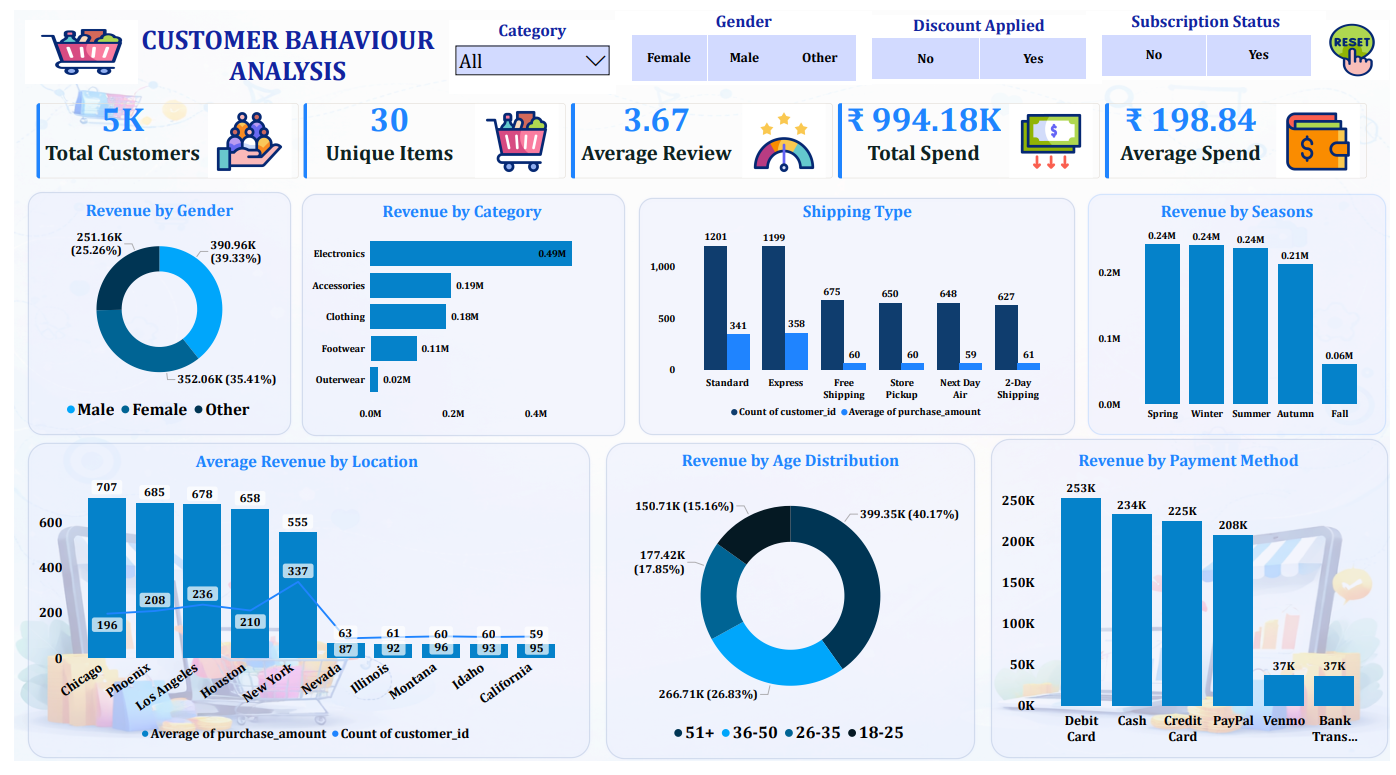

Layout of this report page (visuals, bound fields, positions):
{"tool":"powerbi","page":{"name":"Customer Analysis Revenue","canvas":[2200,1200],"ordinal":0},"visuals":[{"type":"shape","box":[942.8,689,597.5,511],"z":0},{"type":"shape","box":[18.3,287.4,428,395.4],"z":1000},{"type":"group","id":"g1","title":"Group 2","box":[456.5,291.4,523.8,393.3],"z":2000},{"type":"cardVisual","fields":{"Data":["customer_behaviour_analysis.Total Customers","customer_behaviour_analysis.Unique Items","customer_behaviour_analysis.Average Review","customer_behaviour_analysis.Total Spend","customer_behaviour_analysis.Average Spend"]},"box":[18.5,131.9,2161.3,154.5],"z":3000},{"type":"donutChart","title":"Revenue by Gender","fields":{"Category":["customer_behaviour_analysis.gender"],"Y":["Sum(customer_behaviour_analysis.purchase_amount)"]},"box":[34.6,303.7,395.4,360.7],"z":4000},{"type":"shape","box":[456.5,291.4,523.9,393.3],"z":5000,"group":"g1"},{"type":"shape","box":[995.1,296.7,704.6,385.6],"z":5000,"group":"g2"},{"type":"barChart","title":"Revenue by Category","fields":{"Category":["customer_behaviour_analysis.category"],"Y":["Sum(customer_behaviour_analysis.purchase_amount)"]},"box":[470.8,305.7,491.2,358.7],"z":5000},{"type":"shape","box":[1714.2,290.5,484.2,391.5],"z":6000},{"type":"group","id":"g2","title":"Group 2","box":[995.1,296.7,704.6,385.3],"z":7000},{"type":"clusteredColumnChart","title":"Shipping Type","fields":{"Category":["customer_behaviour_analysis.shipping_type"],"Y":["Count(customer_behaviour_analysis.customer_id)","Avg(customer_behaviour_analysis.purchase_amount)"]},"box":[1011.6,304.9,673.7,358.5],"z":8000},{"type":"clusteredColumnChart","title":"Revenue by Seasons","fields":{"Category":["customer_behaviour_analysis.season"],"Y":["Sum(customer_behaviour_analysis.purchase_amount)"]},"box":[1728.6,304.9,453.3,358.5],"z":9000},{"type":"donutChart","title":"Revenue by Age Distribution ","fields":{"Y":["Sum(customer_behaviour_analysis.purchase_amount)"],"Category":["customer_behaviour_analysis.age (groups)"]},"box":[961.3,703.4,560.4,478],"z":10000},{"type":"shape","box":[1557.6,682,642.8,517.1],"z":11000},{"type":"clusteredColumnChart","title":"Revenue by Payment Method","fields":{"Category":["customer_behaviour_analysis.payment_method"],"Y":["Sum(customer_behaviour_analysis.purchase_amount)"]},"box":[1574.1,702.6,607.8,478],"z":12000},{"type":"shape","box":[18.5,688.1,906.5,511],"z":13000},{"type":"lineClusteredColumnComboChart","title":"Average Revenue by Location","fields":{"Category":["customer_behaviour_analysis.location"],"Y":["Avg(customer_behaviour_analysis.purchase_amount)"],"Y2":["CountNonNull(customer_behaviour_analysis.customer_id)"]},"box":[35,704.6,867.4,473.9],"z":14000},{"type":"textbox","box":[197.8,16.5,480.1,115.4],"z":15000},{"type":"actionButton","box":[18.5,16.5,179.2,101],"z":16000},{"type":"slicer","title":"Category","fields":{"Values":["customer_behaviour_analysis.category"]},"box":[696.4,16.5,265.8,117.4],"z":17000},{"type":"slicer","title":"Gender","fields":{"Values":["customer_behaviour_analysis.gender"]},"box":[962.2,2.1,410,117.4],"z":18000},{"type":"slicer","title":"Discount Applied","fields":{"Values":["customer_behaviour_analysis.discount_applied"]},"box":[1347.4,8.2,391.5,109.2],"z":19000},{"type":"slicer","title":"Subscription Status","fields":{"Values":["customer_behaviour_analysis.subscription_status"]},"box":[1714.2,2.1,383.2,109.2],"z":20000},{"type":"actionButton","box":[2080.9,16.5,117.4,94.8],"z":21000}]}

Visuals, with their boxes in screenshot pixels (x1, y1, x2, y2), scaled from the page's 2200x1200 canvas onto the 1396x775 screenshot:
shape: x1=598 y1=445 x2=977 y2=774
shape: x1=12 y1=186 x2=283 y2=441
"Group 2" group: x1=290 y1=188 x2=622 y2=442
cardVisual - customer_behaviour_analysis.Total Customers x customer_behaviour_analysis.Unique Items: x1=12 y1=85 x2=1383 y2=185
"Revenue by Gender" donutChart: x1=22 y1=196 x2=273 y2=429
shape: x1=290 y1=188 x2=622 y2=442
shape: x1=631 y1=192 x2=1079 y2=441
"Revenue by Category" barChart: x1=299 y1=197 x2=610 y2=429
shape: x1=1088 y1=188 x2=1395 y2=440
"Group 2" group: x1=631 y1=192 x2=1079 y2=440
"Shipping Type" clusteredColumnChart: x1=642 y1=197 x2=1069 y2=428
"Revenue by Seasons" clusteredColumnChart: x1=1097 y1=197 x2=1385 y2=428
"Revenue by Age Distribution " donutChart: x1=610 y1=454 x2=966 y2=763
shape: x1=988 y1=440 x2=1395 y2=774
"Revenue by Payment Method" clusteredColumnChart: x1=999 y1=454 x2=1385 y2=762
shape: x1=12 y1=444 x2=587 y2=774
"Average Revenue by Location" lineClusteredColumnComboChart: x1=22 y1=455 x2=573 y2=761
textbox: x1=126 y1=11 x2=430 y2=85
actionButton: x1=12 y1=11 x2=125 y2=76
"Category" slicer: x1=442 y1=11 x2=611 y2=86
"Gender" slicer: x1=611 y1=1 x2=871 y2=77
"Discount Applied" slicer: x1=855 y1=5 x2=1103 y2=76
"Subscription Status" slicer: x1=1088 y1=1 x2=1331 y2=72
actionButton: x1=1320 y1=11 x2=1395 y2=72
